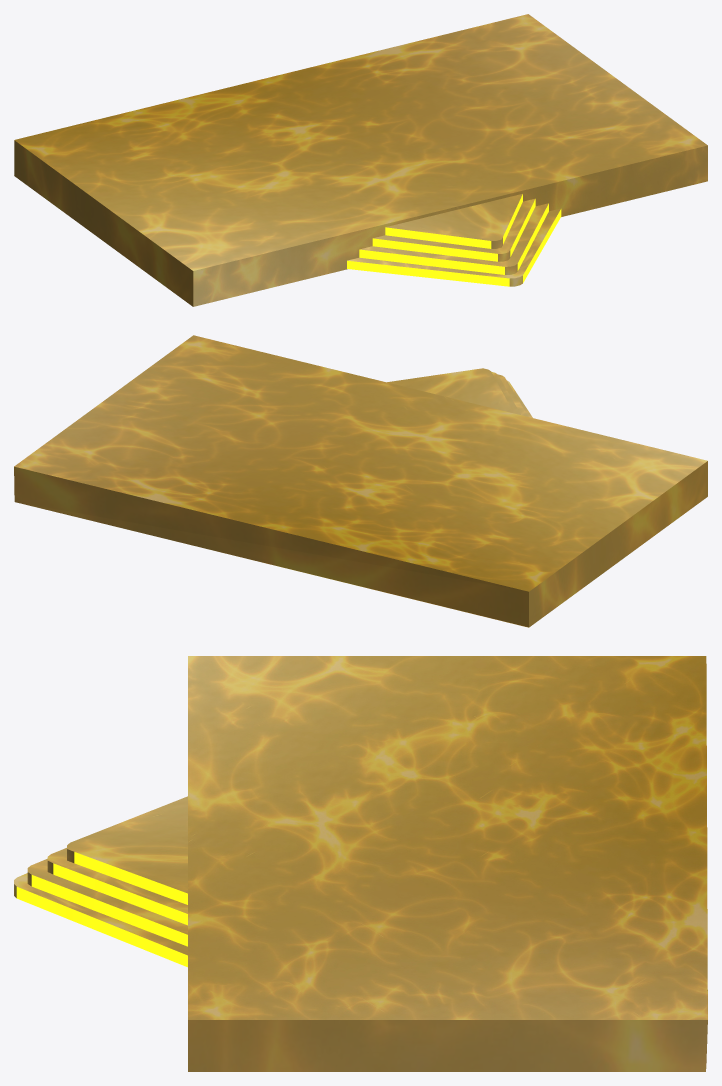
The model's file is Stage dcl-panel.glb.
3 views of the same model, one above another, from view 1: azimuth 30°, elevation 25°; view 2: azimuth 150°, elevation 25°; view 3: azimuth 270°, elevation 25° (orthographic). The views are drawn at different scales.
Visible parts, largest first — view 1: polySurface27; view 2: polySurface27; view 3: polySurface27.
Part boxes in pixels (box(x1,y1,x2,y2)): polySurface27: box(14, 14, 707, 306); polySurface27: box(14, 335, 707, 627); polySurface27: box(14, 656, 707, 1071).
Size of the model in its own units: 9.44 by 0.6296 by 7.61.
Materials: 2 (1 with a texture image).
